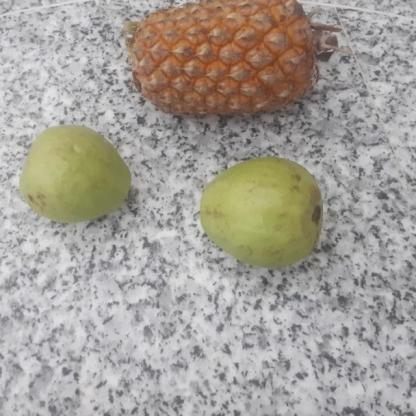guava: (205, 161, 329, 269), (19, 127, 136, 221)
pineapple: (125, 0, 330, 118)
